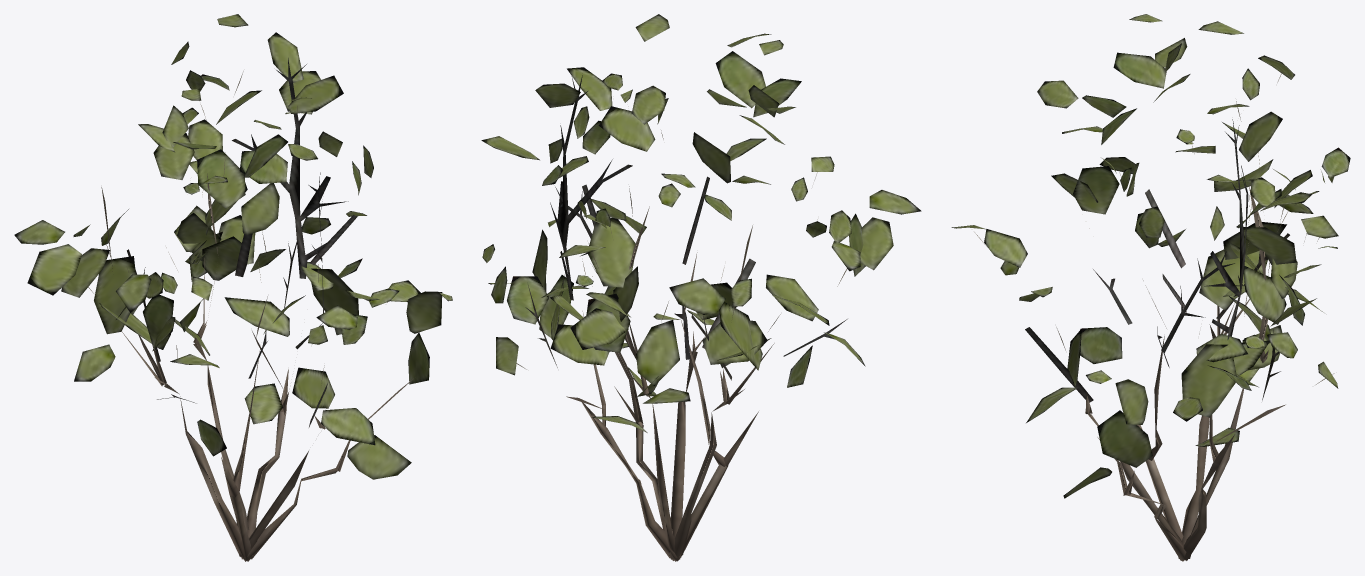
Rendered from arbuste_searsia_d_lod2.glb.
The picture shows the model from 3 angles, left to right: view 1: azimuth 30°, elevation 25°; view 2: azimuth 150°, elevation 25°; view 3: azimuth 270°, elevation 25°; orthographic projection. The views are drawn at different scales.
Visible parts, largest first — view 1: searsia_lucida_d_LOD0; view 2: searsia_lucida_d_LOD0; view 3: searsia_lucida_d_LOD0.
Boxes of the visible parts, x1,y1,x2,y2 form: searsia_lucida_d_LOD0: (14, 14, 452, 561); searsia_lucida_d_LOD0: (481, 14, 921, 561); searsia_lucida_d_LOD0: (951, 14, 1350, 561).
Size of the model in its own units: 0.9924 by 1.33 by 0.8974.
2 materials, 2 textured.
